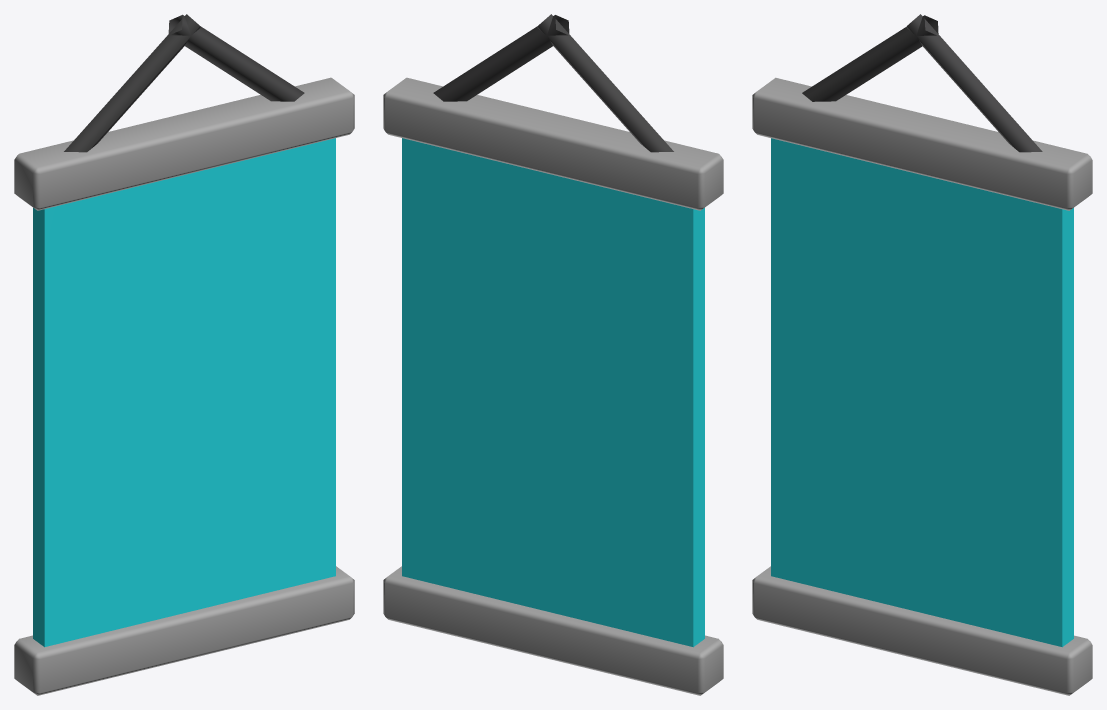
The model's file is drone_sign_002.glb.
3 views of the same model, side by side, from view 1: azimuth 30°, elevation 25°; view 2: azimuth 150°, elevation 25°; view 3: azimuth 330°, elevation 25° (orthographic).
Parts seen in each view (by area): view 1: drone_sign_002; view 2: drone_sign_002; view 3: drone_sign_002.
Boxes of the visible parts, x1,y1,x2,y2 form: drone_sign_002: (14, 14, 354, 695); drone_sign_002: (383, 14, 723, 695); drone_sign_002: (752, 14, 1092, 695).
Size of the model in its own units: 1.41 by 2.66 by 0.1824.
4 materials, 4 textured.
